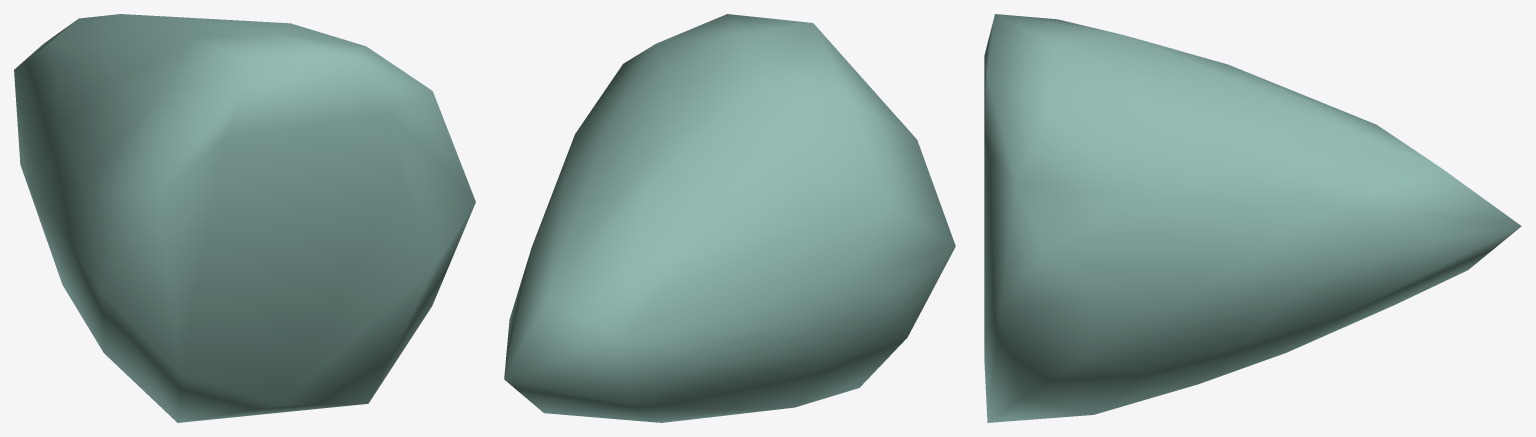
3 renders of one model, left to right at view 1: azimuth 30°, elevation 25°; view 2: azimuth 150°, elevation 25°; view 3: azimuth 270°, elevation 25°, orthographic. The views are drawn at different scales.
Bounding box in the file's own units: 1.27 × 1.22 × 1.61.
